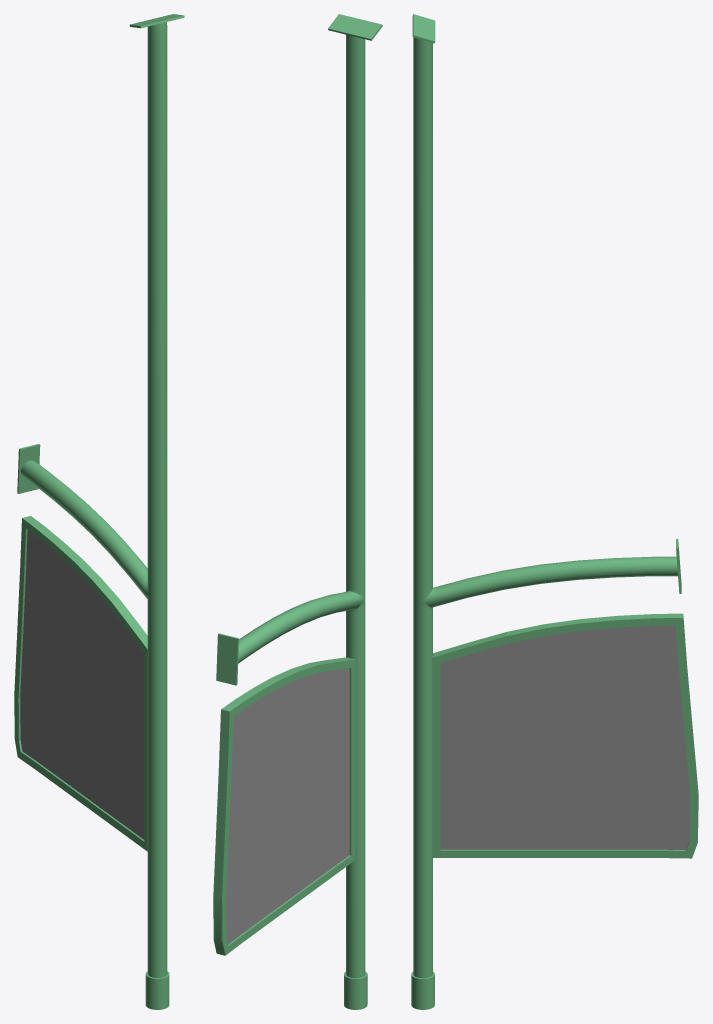
Rendered from Pole_Straight_V1.FBX.
3 views of the same model, side by side, from view 1: azimuth 30°, elevation 25°; view 2: azimuth 150°, elevation 25°; view 3: azimuth 270°, elevation 25° (orthographic).
Parts seen in each view (by area): view 1: Pole_Straight_Board; view 2: Pole_Straight_Board; view 3: Pole_Straight_Board.
Boxes of the visible parts, left/top/right/bottom form: Pole_Straight_Board: left=14, top=14, right=184, bottom=1009; Pole_Straight_Board: left=213, top=14, right=382, bottom=1009; Pole_Straight_Board: left=411, top=14, right=698, bottom=1009.
Size of the model in its own units: 0.0973 by 2.1 by 0.5587.
